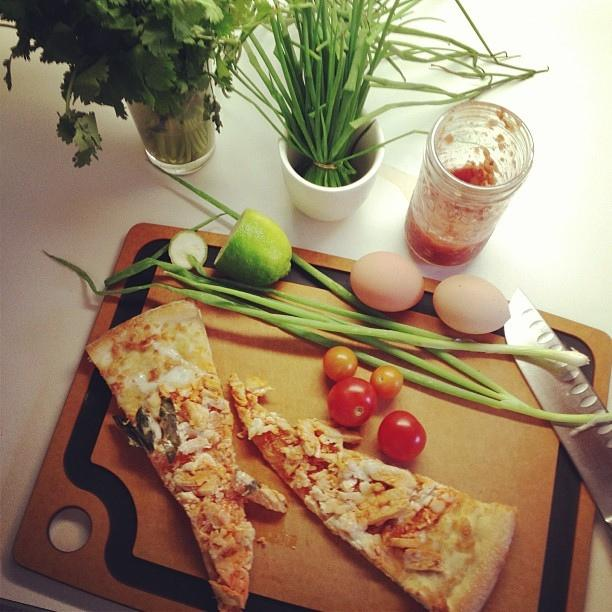green onion: (42, 249, 591, 367), (260, 317, 612, 436), (328, 89, 486, 187), (288, 40, 326, 187), (330, 29, 368, 152), (320, 108, 329, 187)
lime: (214, 208, 292, 286), (168, 229, 208, 270)
tomato: (327, 378, 377, 428), (377, 411, 426, 462), (323, 346, 359, 382), (370, 364, 404, 400)
